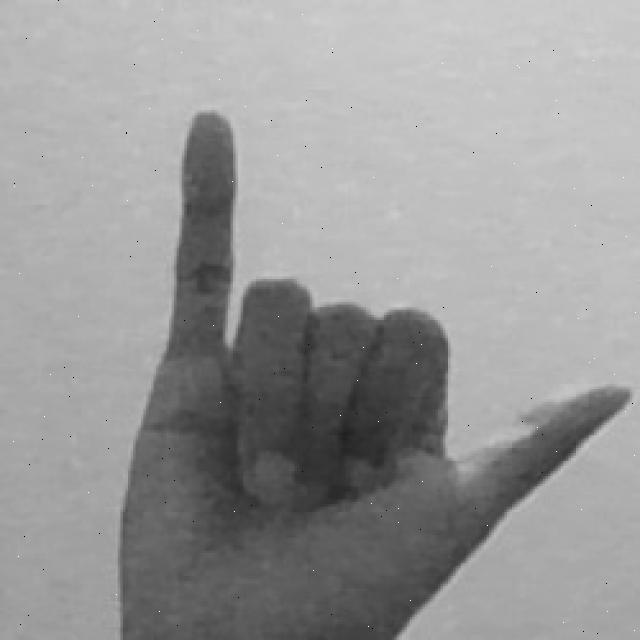Y: (110, 105, 638, 640)
